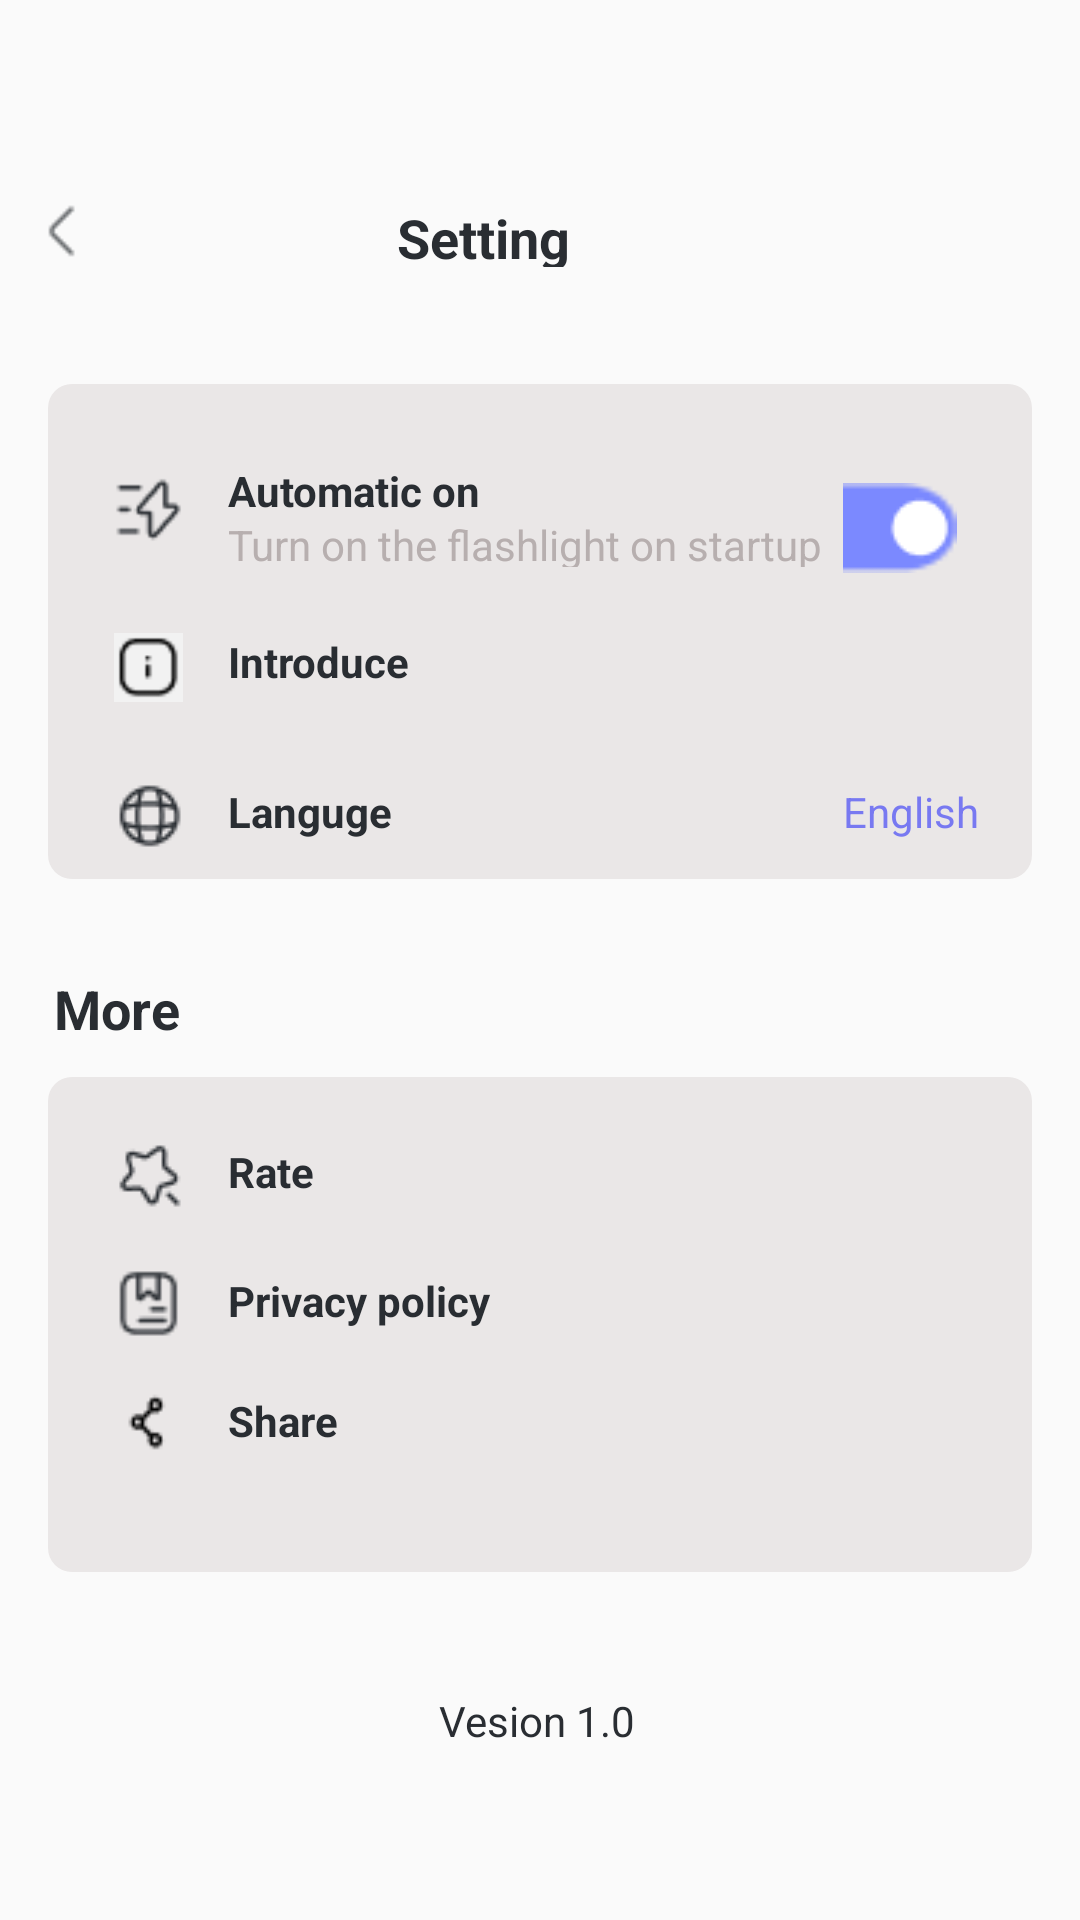

Where to tap for icons on this 1080px x 1920px app screen, as (x=x, y=y):
archivebook: (x=148, y=1303)
arrow left: (x=61, y=231)
global: (x=150, y=816)
magicstar: (x=150, y=1176)
